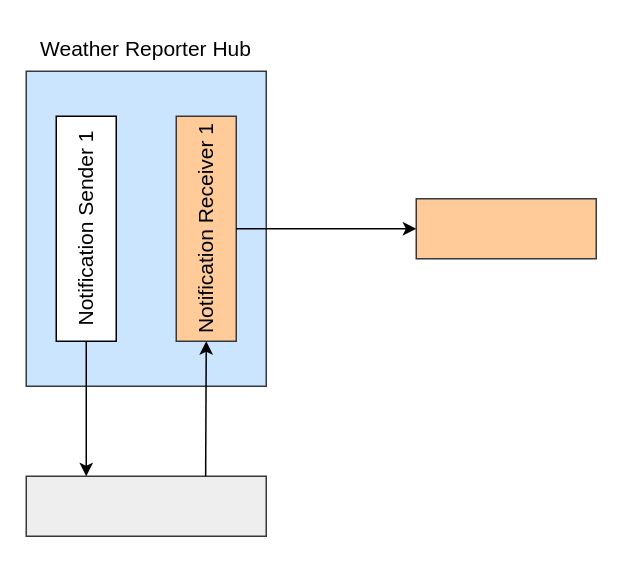
Image size: 623x563. Some labels were removed from this diagram. Here are the shapes that lost their labels. From the top down, the centre of each, then its label:
At pixel 505 228: "News Receiver 3".
At pixel 145 505: "Apache Kafka".
